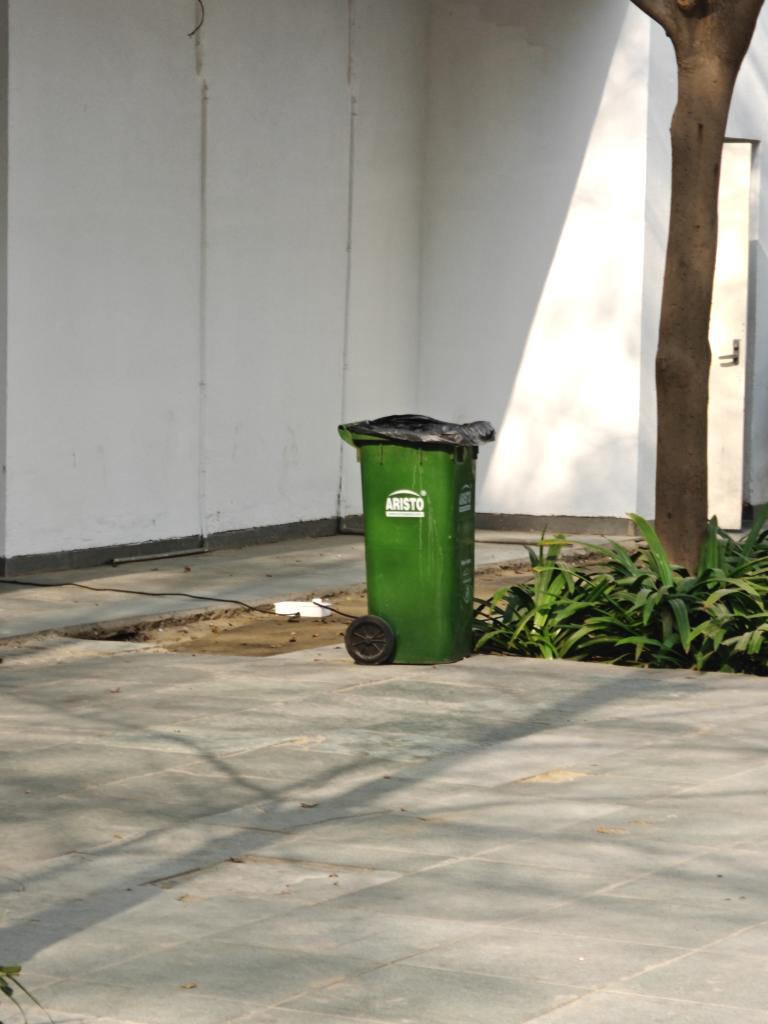dustbin: (324, 394, 508, 681)
